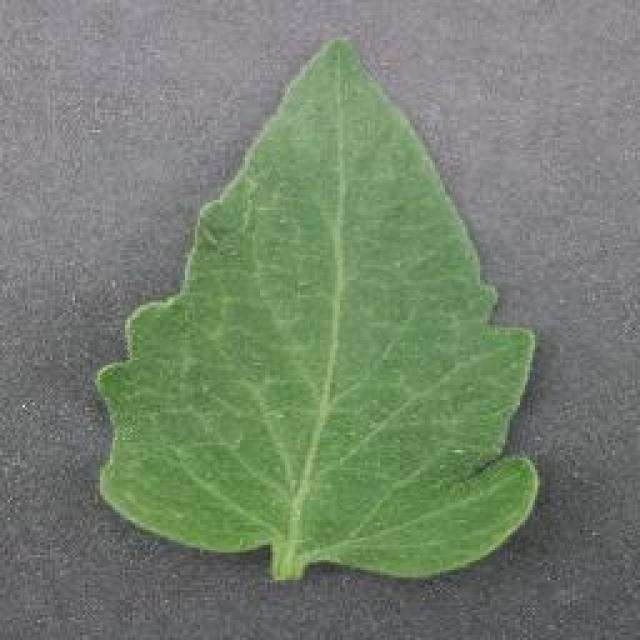healthy: (91, 36, 540, 583)
